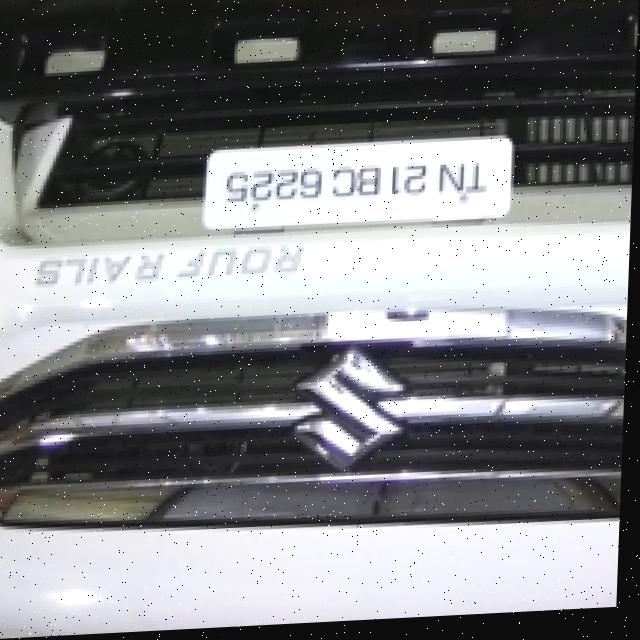plate: (203, 140, 520, 239)
